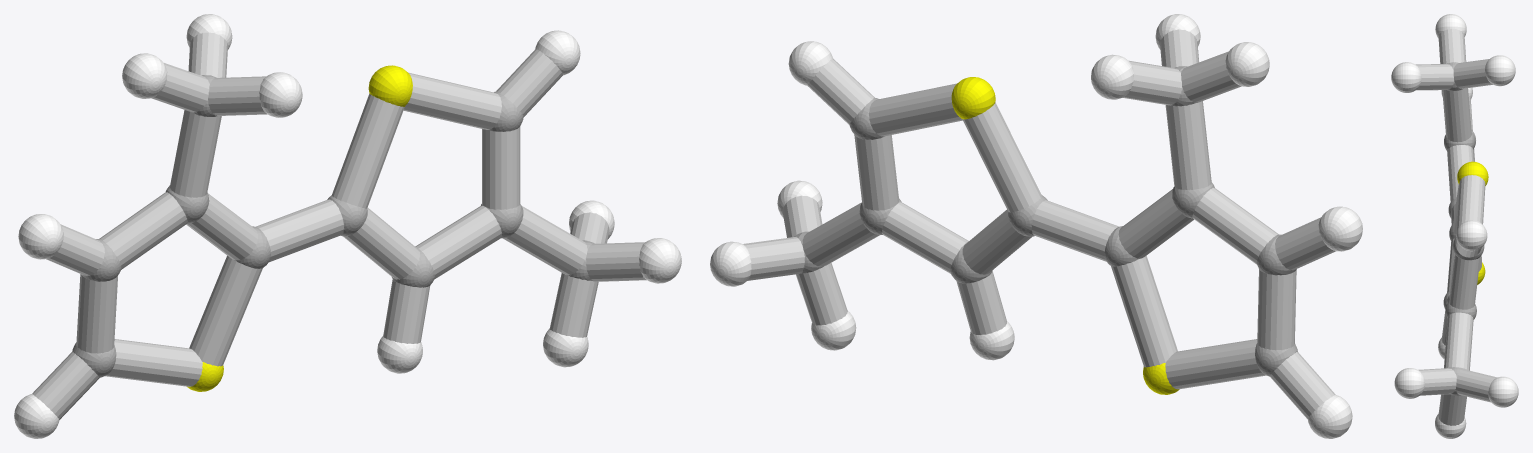
Rendered from color.glb.
3 views of the same model, side by side, from view 1: azimuth 30°, elevation 25°; view 2: azimuth 150°, elevation 25°; view 3: azimuth 270°, elevation 25° (orthographic). The views are drawn at different scales.
Parts seen in each view (by area): view 1: grp7965, grp3621, grp1, grp7241; view 2: grp7965, grp3621, grp1, grp7241; view 3: grp7965, grp3621, grp1, grp7241.
Part boxes in pixels (bbox=[...]): grp7965: bbox=[32, 32, 646, 419]; grp3621: bbox=[14, 14, 681, 438]; grp1: bbox=[72, 75, 594, 377]; grp7241: bbox=[187, 65, 412, 391]; grp7965: bbox=[743, 29, 1336, 419]; grp3621: bbox=[710, 14, 1362, 438]; grp1: bbox=[794, 66, 1297, 376]; grp7241: bbox=[951, 77, 1179, 394]; grp7965: bbox=[1415, 29, 1497, 425]; grp3621: bbox=[1391, 14, 1518, 438]; grp1: bbox=[1443, 62, 1484, 395]; grp7241: bbox=[1457, 161, 1488, 284].
Bounding box in the file's own units: 9.42 × 5.95 × 2.44.
